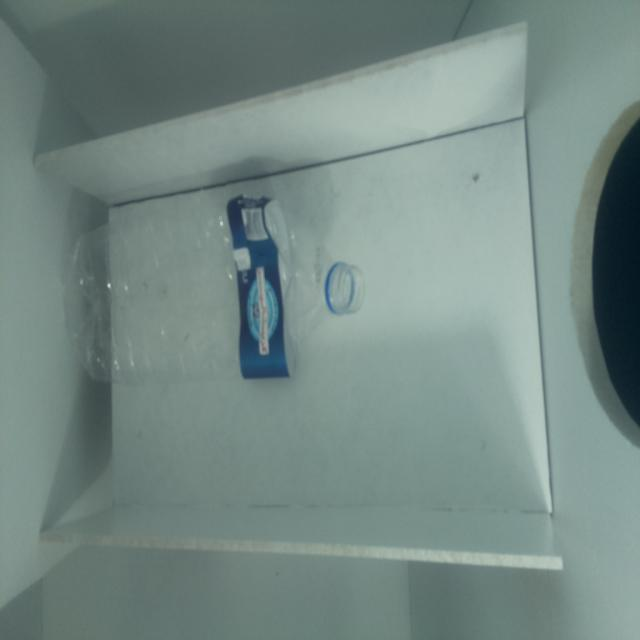plastic_bottle: (70, 192, 366, 384)
